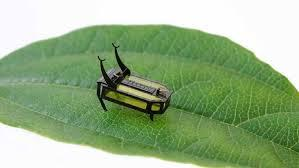insect: (94, 38, 174, 125)
